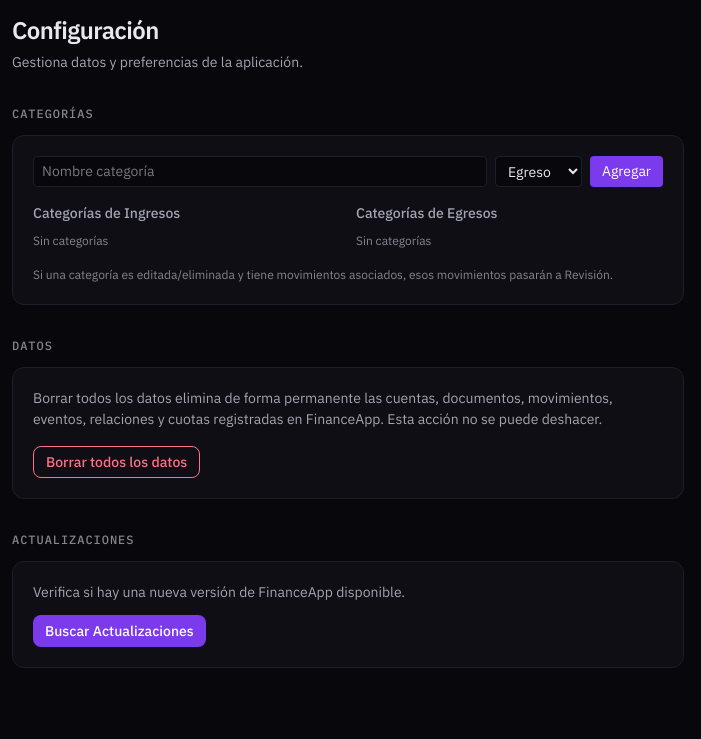
SettingsPage › reports "up to date" when the updater finds nothing
Click the button "Buscar Actualizaciones": (119, 631) top-left (33, 615), bottom-right (206, 647)
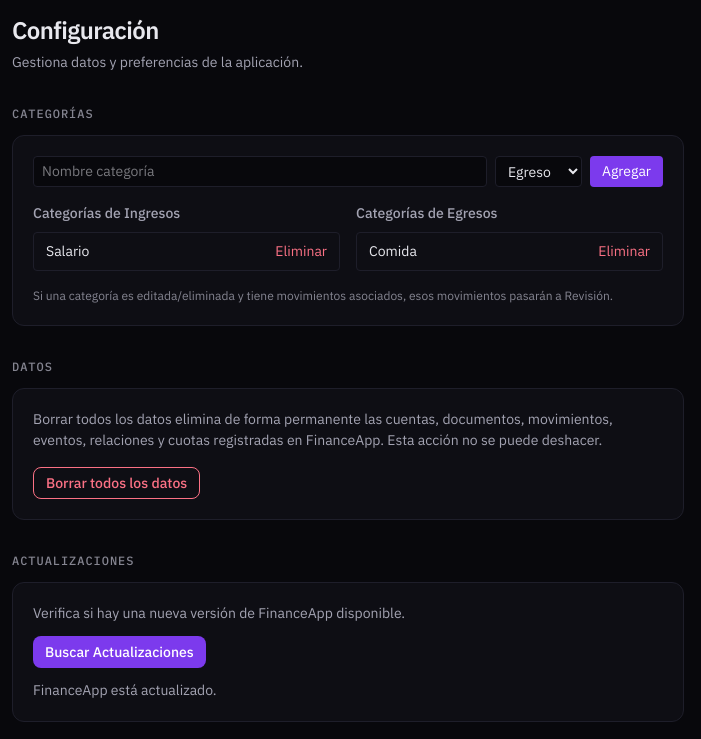
Now the text "FinanceApp está actualizado." is shown, box top-left (33, 681), bottom-right (217, 699)
